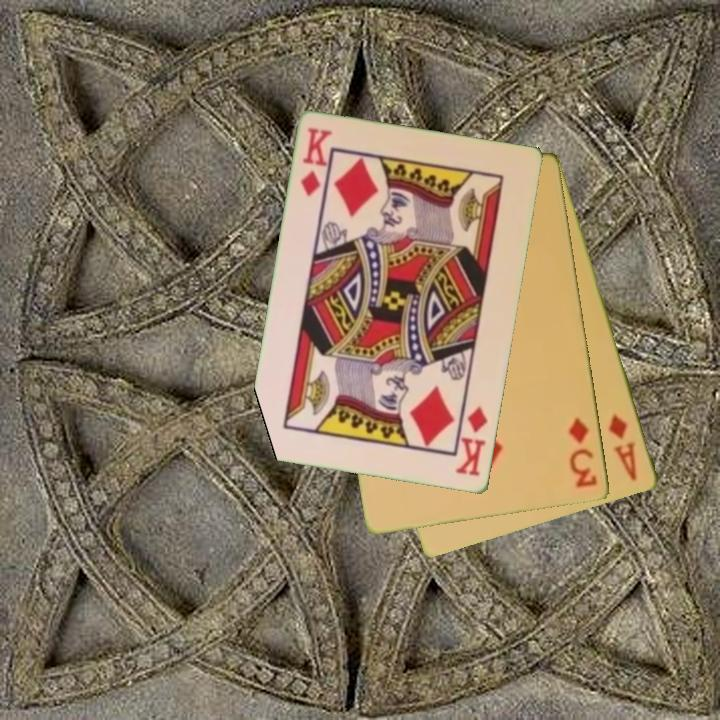3d: (565, 414, 601, 491)
Ad: (606, 410, 641, 484)
Kd: (452, 403, 491, 480), (297, 124, 335, 200)
